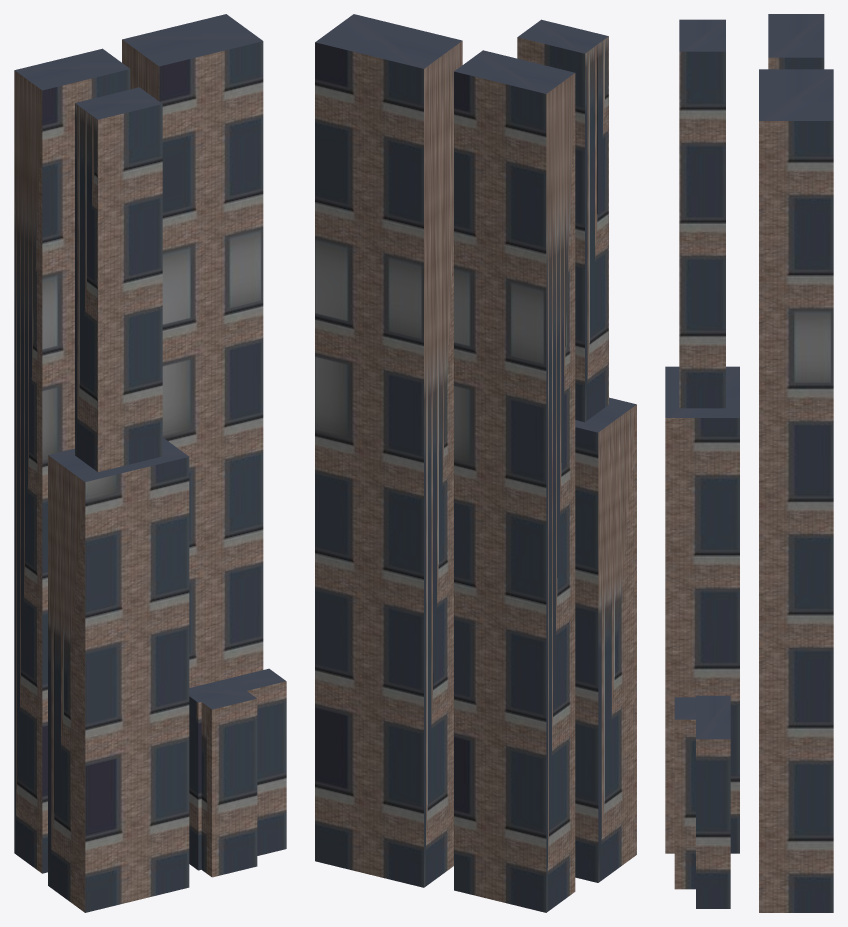
File: block_30.obj
The picture shows the model from 3 angles, left to right: view 1: azimuth 30°, elevation 25°; view 2: azimuth 150°, elevation 25°; view 3: azimuth 270°, elevation 25°; orthographic projection. The views are drawn at different scales.
Visible parts, largest first — view 1: b1, b2, b0, b3; view 2: b2, b0, b1; view 3: b2, b1, b3, b0.
Boxes of the visible parts, x1,y1,x2,y2 form: b1: (48, 87, 189, 912); b2: (122, 14, 263, 687); b0: (14, 48, 130, 873); b3: (189, 668, 286, 877); b2: (315, 14, 462, 887); b0: (454, 50, 575, 912); b1: (517, 19, 636, 882); b2: (759, 69, 833, 912); b1: (665, 19, 739, 853); b3: (674, 695, 730, 908); b0: (768, 14, 824, 69).
Bounding box in the file's own units: 4.2 × 14 × 2.7.
